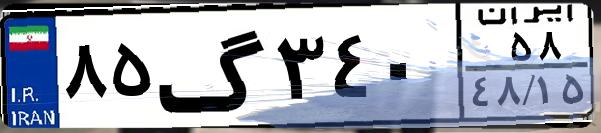0: (385, 28, 445, 110)
1: (535, 70, 560, 125)
3: (270, 28, 330, 110)
4: (330, 28, 385, 110), (470, 70, 495, 125)
5: (110, 28, 156, 98), (560, 70, 590, 125), (508, 27, 537, 80)
8: (57, 26, 110, 100), (537, 27, 568, 80), (495, 70, 520, 125)
گ: (156, 12, 270, 120)
